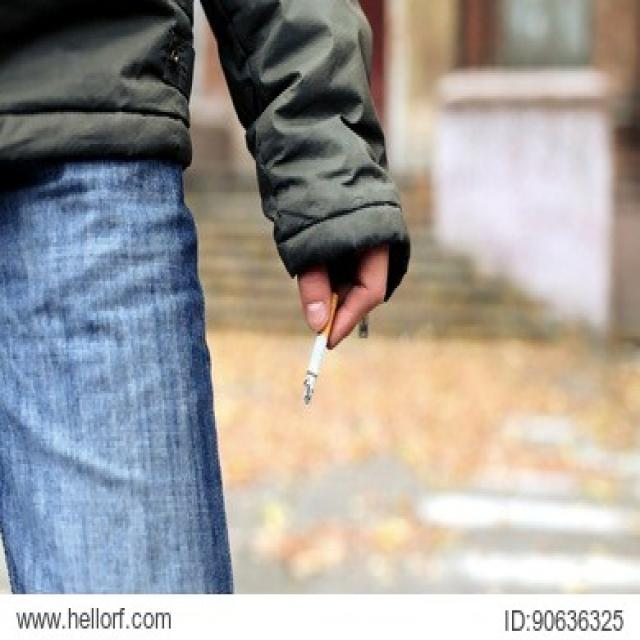cigarette: (299, 291, 339, 404)
